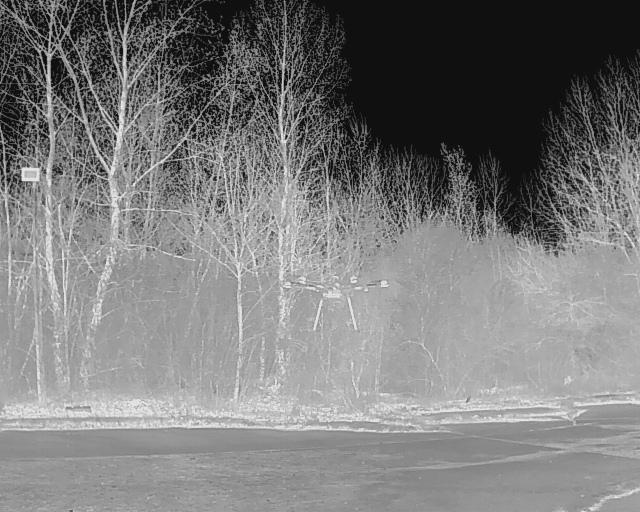drone: (276, 266, 393, 331)
